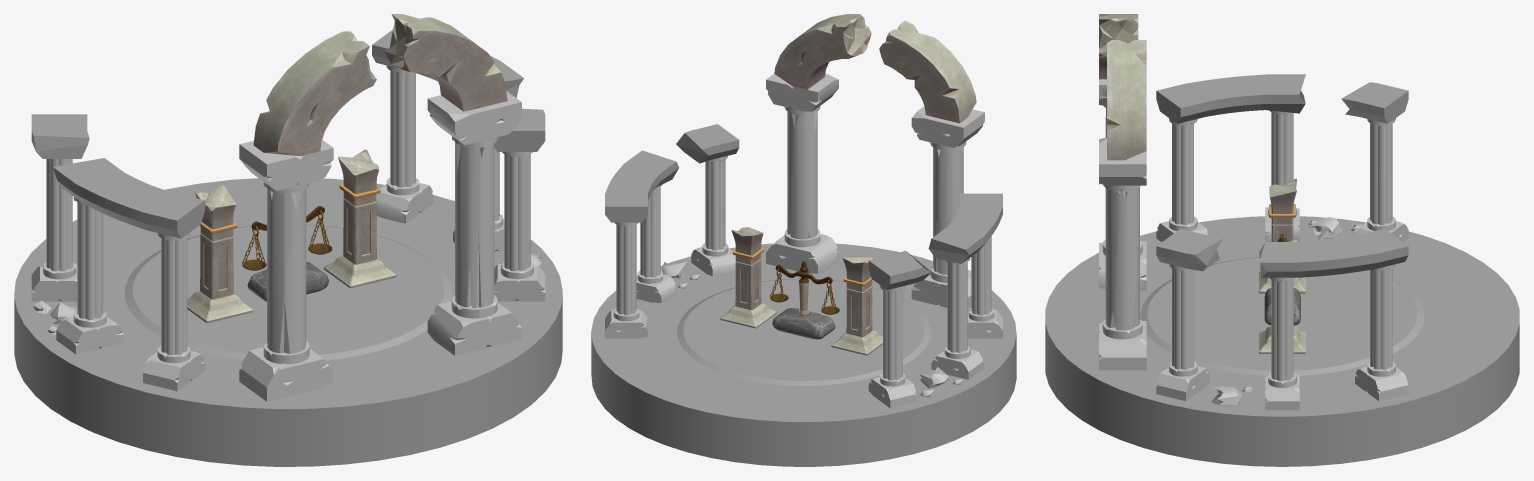
Rendered from la_balance.fbx.
3 views of the same model, side by side, from view 1: azimuth 30°, elevation 25°; view 2: azimuth 150°, elevation 25°; view 3: azimuth 270°, elevation 25° (orthographic). The views are drawn at different scales.
Visible parts, largest first — view 1: directionalLight2; view 2: directionalLight2; view 3: directionalLight2.
Boxes of the visible parts, <box> form: directionalLight2: <box>14,14,562,466</box>; directionalLight2: <box>591,14,1016,466</box>; directionalLight2: <box>1045,14,1519,466</box>.
Size of the model in its own units: 9.59 by 7.49 by 9.57.
